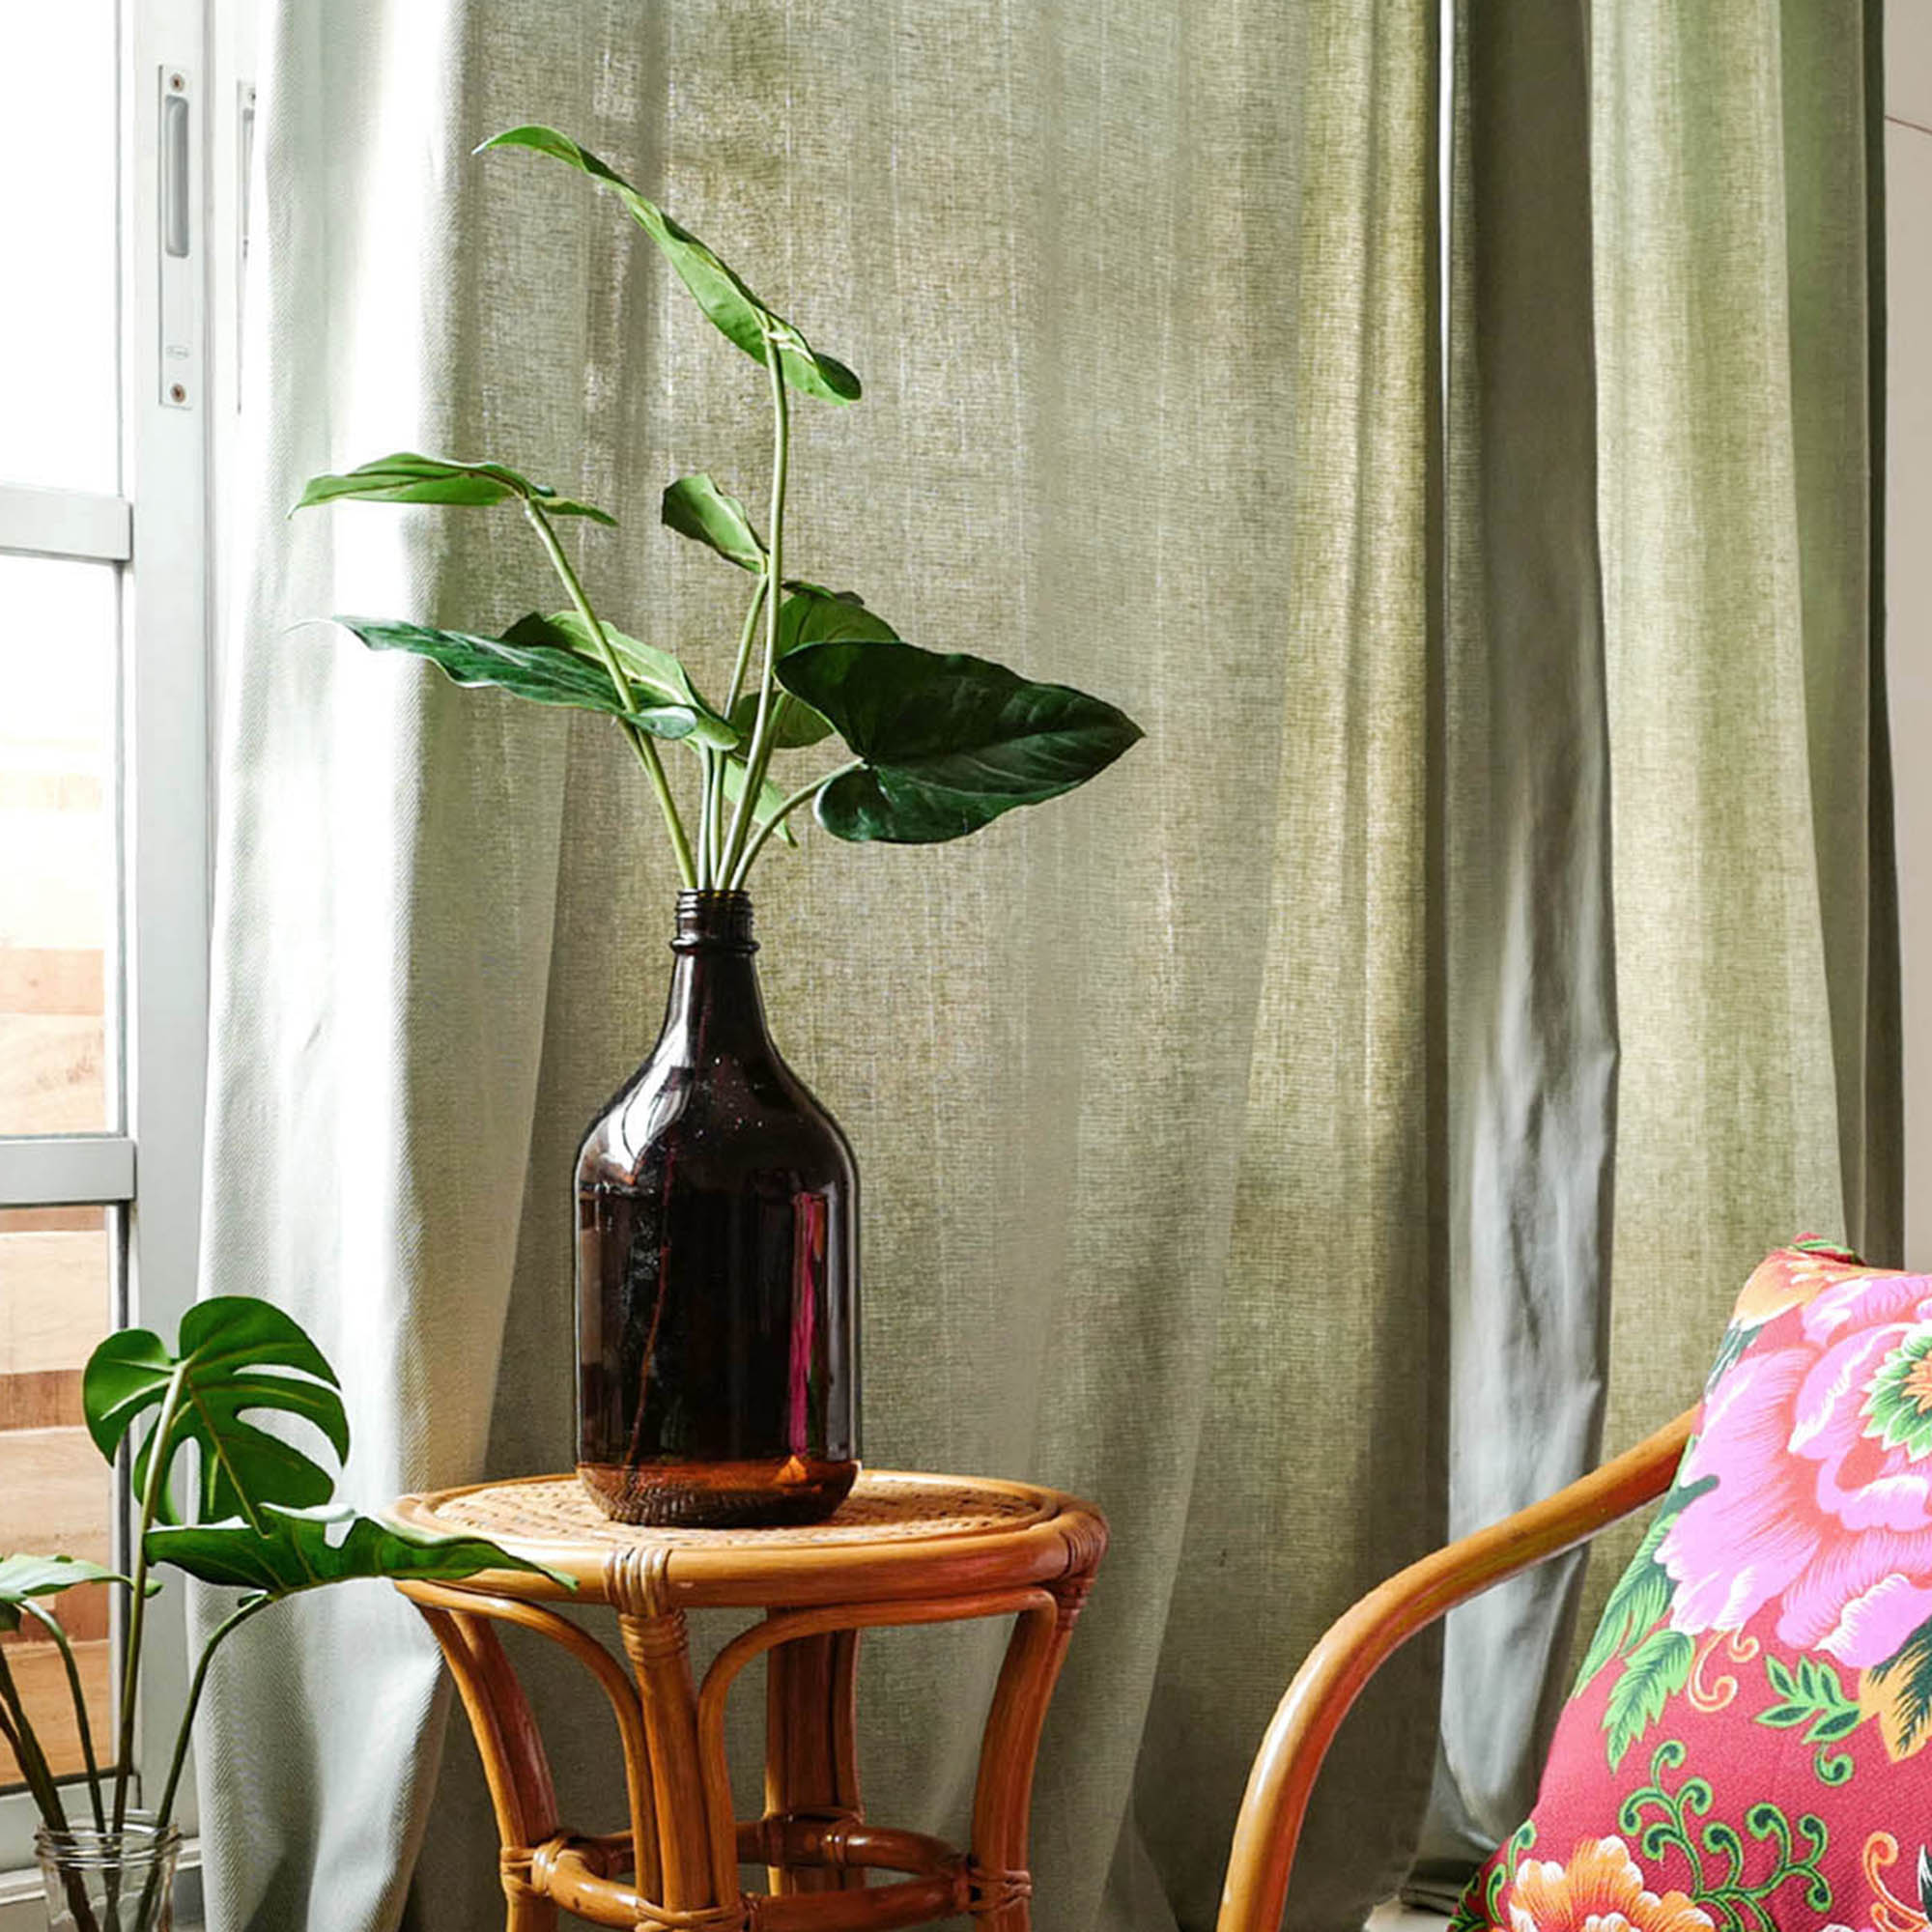glass_bottle: (566, 885, 872, 1545)
